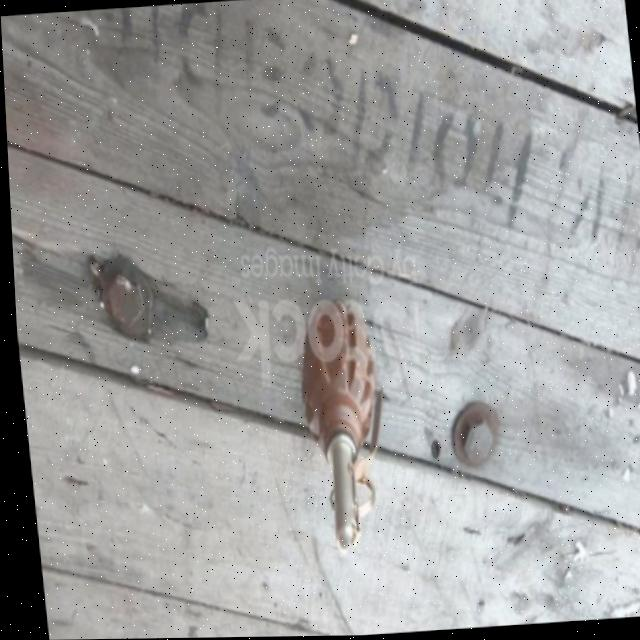grenade: (278, 303, 401, 553)
